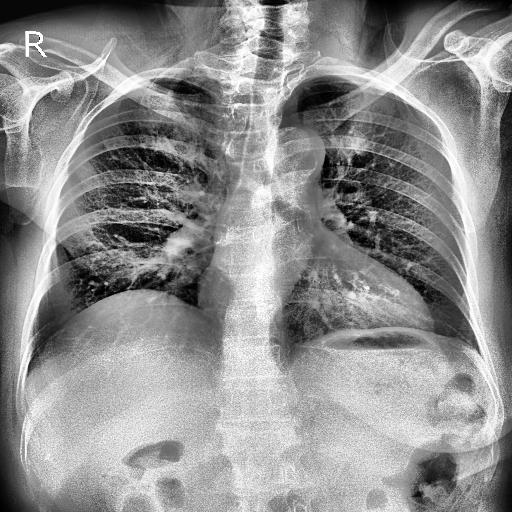0- Aortic enlargement: (263, 124, 325, 188), (262, 126, 324, 176), (276, 124, 324, 182)
3- Cardiomegaly: (194, 274, 432, 363), (194, 256, 438, 338), (194, 260, 434, 340)
